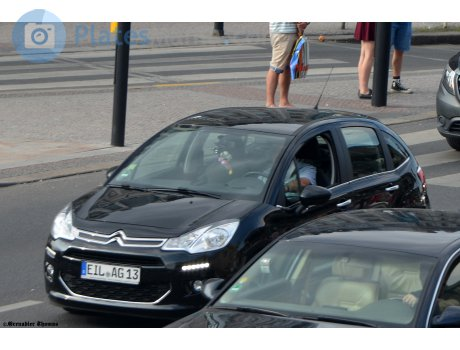License Plates: (85, 261, 137, 282)
